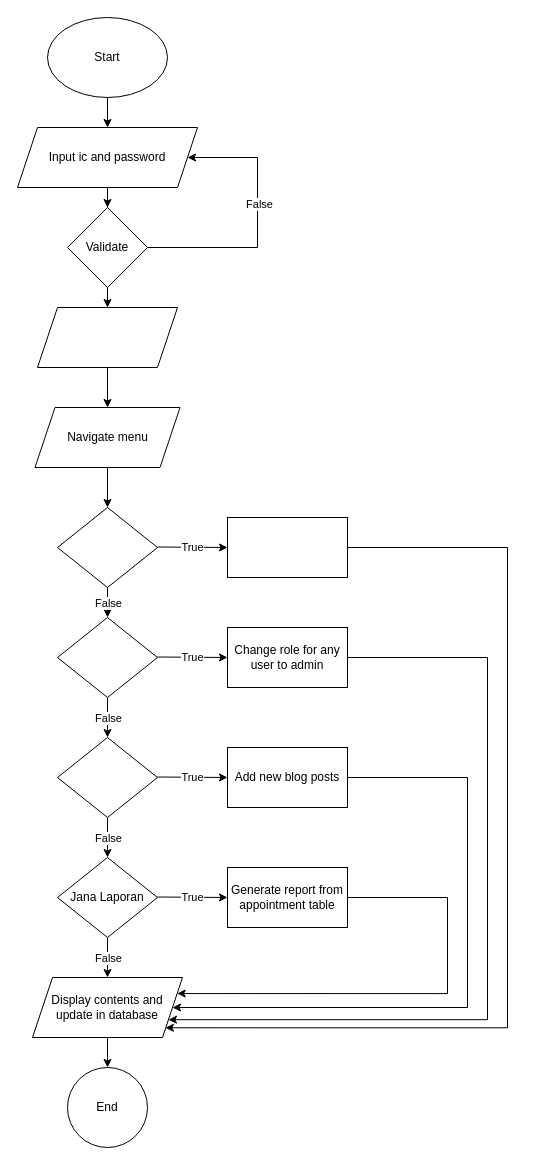
This 533x1165 diagram has some shape labels left out. The shapes that lost their labels are listed below. From the top down, each one's box as (x1, y1, x2, y2) in pixels, then its label:
(36, 306, 178, 368): Admin Dashboard
(56, 506, 158, 588): Pengguna Disekat
(226, 516, 348, 578): Unblock user that is blocked
(56, 616, 158, 698): Pelantikan Pentadbir
(56, 736, 158, 818): Blog Pentadbir
